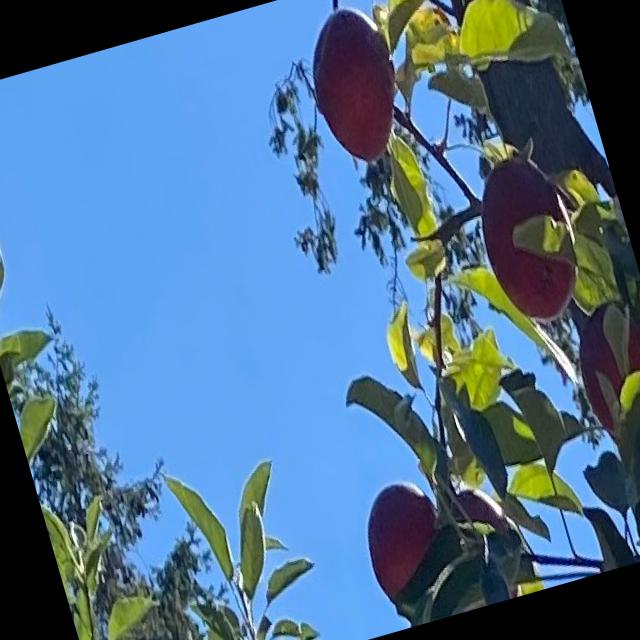Apples: (462, 146, 590, 330), (295, 2, 413, 165), (351, 474, 457, 606), (563, 291, 639, 455), (444, 474, 532, 606)
